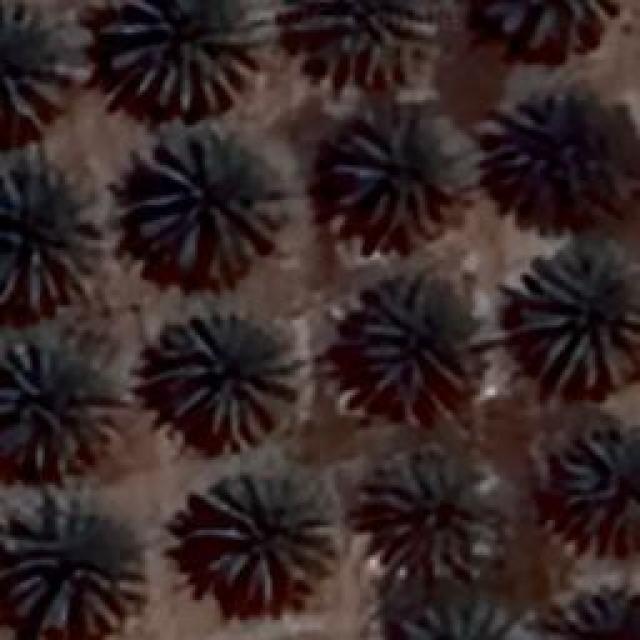PalmTree: (125, 130, 288, 285), (495, 102, 640, 252), (145, 310, 300, 448), (0, 488, 140, 638), (330, 112, 475, 245), (512, 248, 638, 390), (362, 452, 500, 578), (200, 475, 335, 603), (0, 340, 128, 475), (102, 0, 247, 112), (352, 280, 470, 408), (0, 154, 98, 308), (304, 0, 438, 85), (468, 0, 612, 75), (0, 0, 78, 125), (560, 430, 638, 535), (530, 584, 638, 638), (398, 600, 520, 638)
